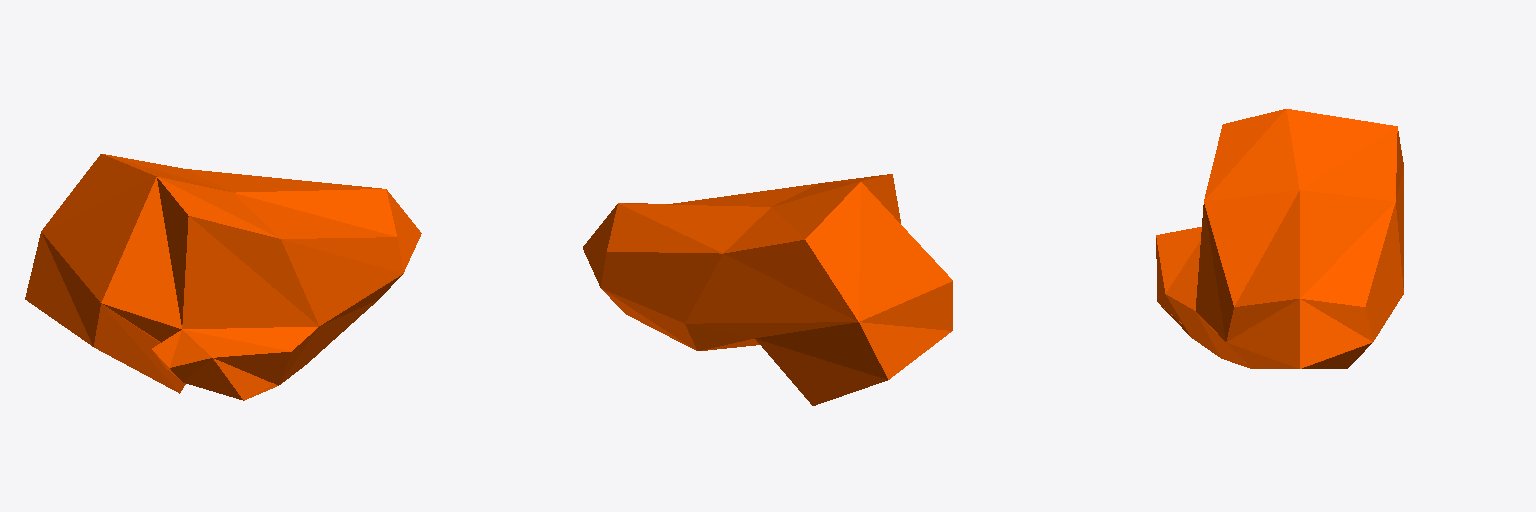
Rendered from HandRight.obj.
3 views of the same model, side by side, from view 1: azimuth 30°, elevation 25°; view 2: azimuth 150°, elevation 25°; view 3: azimuth 270°, elevation 25° (orthographic).
Visible parts, largest first — view 1: pasted__pCube11 group18; view 2: pasted__pCube11 group18; view 3: pasted__pCube11 group18.
Boxes of the visible parts, x1=… form: pasted__pCube11 group18: x1=25, y1=154, x2=421, y2=400; pasted__pCube11 group18: x1=583, y1=174, x2=952, y2=405; pasted__pCube11 group18: x1=1156, y1=109, x2=1403, y2=368.
Size of the model in its own units: 5.71 by 3.12 by 3.49.